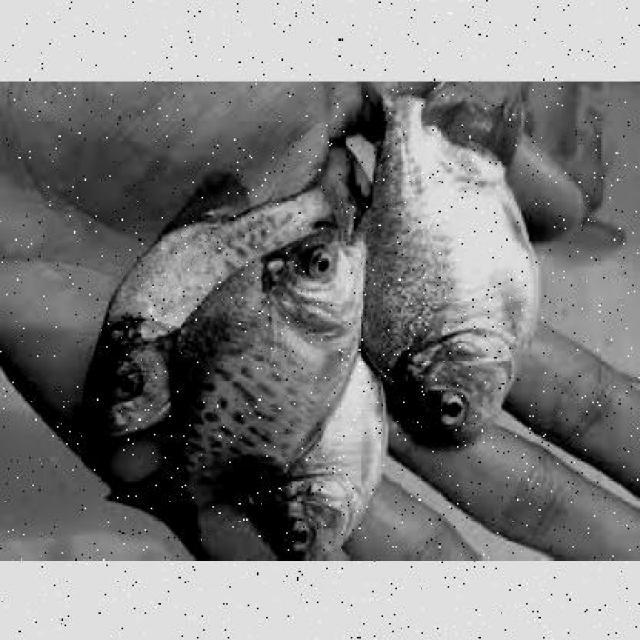ikan-pacu: (364, 87, 544, 430), (162, 236, 358, 467)
